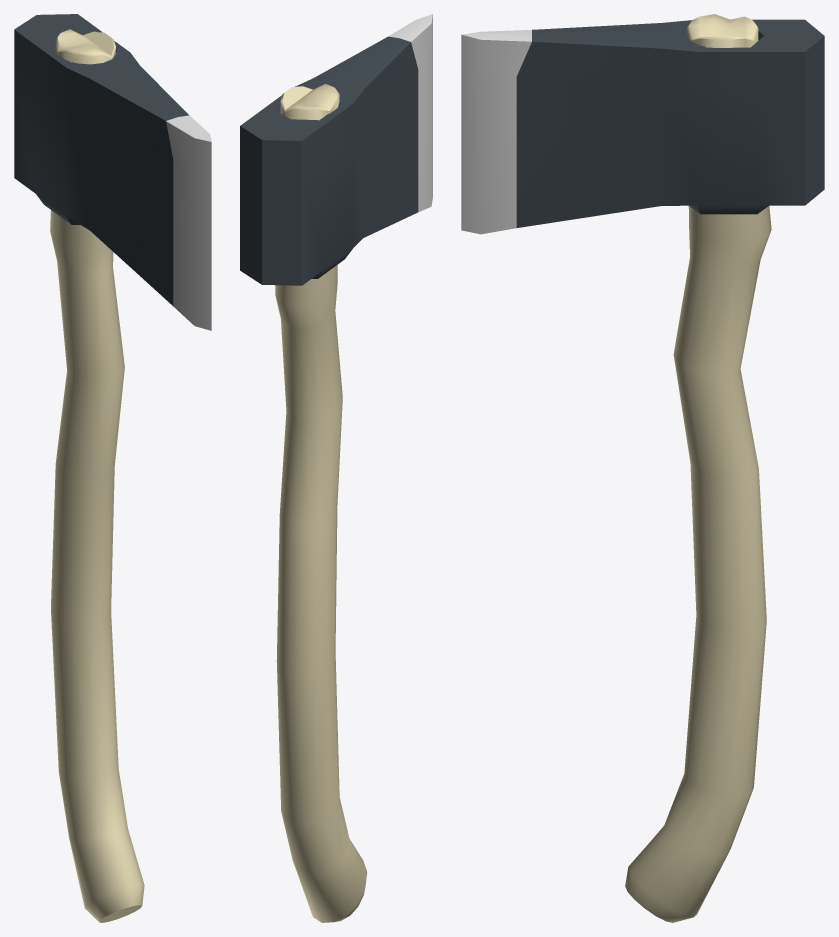
File: Axe.fbx
3 renders of one model, left to right at view 1: azimuth 30°, elevation 25°; view 2: azimuth 150°, elevation 25°; view 3: azimuth 270°, elevation 25°, orthographic. The views are drawn at different scales.
Parts seen in each view (by area): view 1: Pickaxe.001; view 2: Pickaxe.001; view 3: Pickaxe.001.
Boxes of the visible parts, <box> form: Pickaxe.001: <box>14,14,211,922</box>; Pickaxe.001: <box>240,14,432,922</box>; Pickaxe.001: <box>461,14,824,922</box>.
Size of the model in its own units: 5.25 by 25.03 by 68.14.
